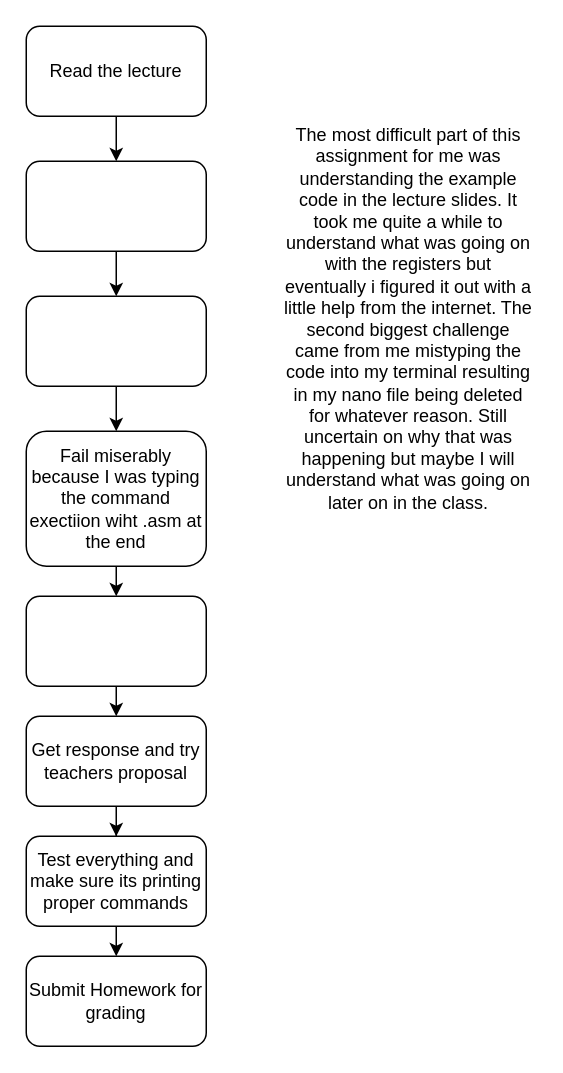
The diagram is 563 pixels wide and 1073 high, and some of its shapes have lost their labels. Here are the shapes that lost their labels. From the top down, the centre of each, then its label:
At point 115,205: "Try and understand the code at the end".
At point 115,340: "Copy code and replace with relevant requirements".
At point 115,640: "Email teacher for help".
